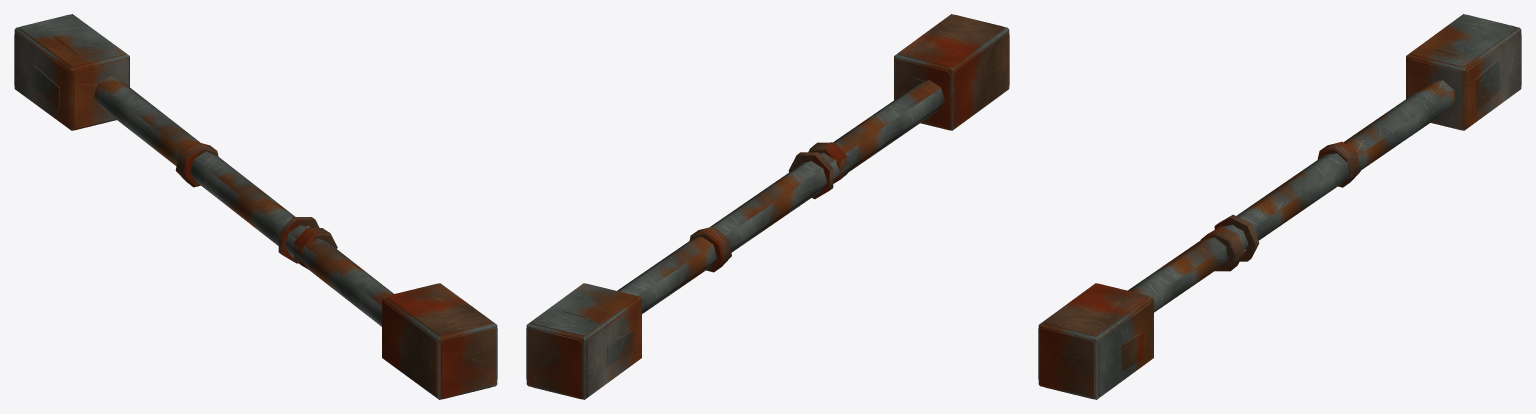
The model's file is R4C_ROD_LONG.glb.
3 views of the same model, side by side, from view 1: azimuth 30°, elevation 25°; view 2: azimuth 150°, elevation 25°; view 3: azimuth 330°, elevation 25° (orthographic).
Visible parts, largest first — view 1: R4C_ROD_LONG; view 2: R4C_ROD_LONG; view 3: R4C_ROD_LONG.
Boxes of the visible parts, x1=… form: R4C_ROD_LONG: x1=14, y1=14, x2=497, y2=399; R4C_ROD_LONG: x1=526, y1=14, x2=1009, y2=399; R4C_ROD_LONG: x1=1038, y1=14, x2=1521, y2=399.
Bounding box in the file's own units: 0.232 × 0.232 × 2.72.
4 materials, 4 textured.
